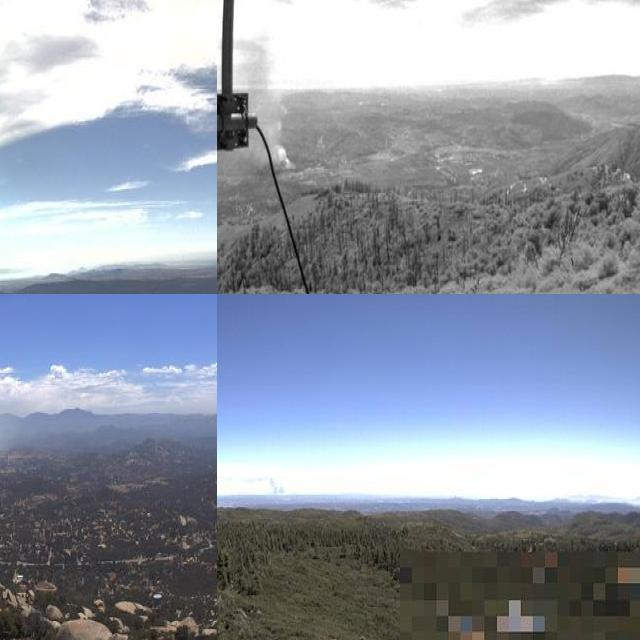smoke: (234, 37, 294, 172), (242, 471, 290, 496)
